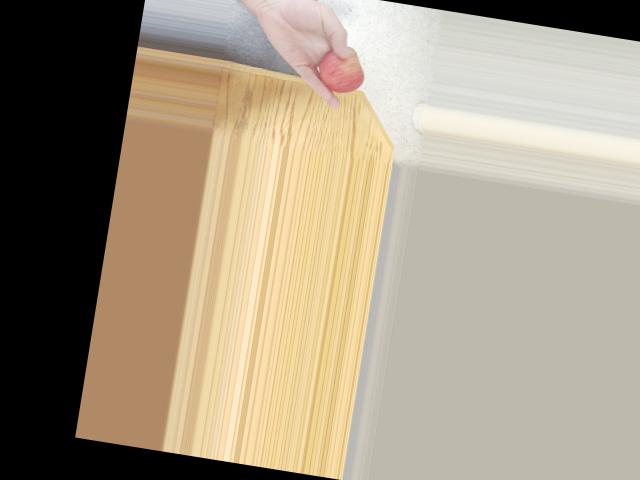apple: (308, 40, 373, 97)
